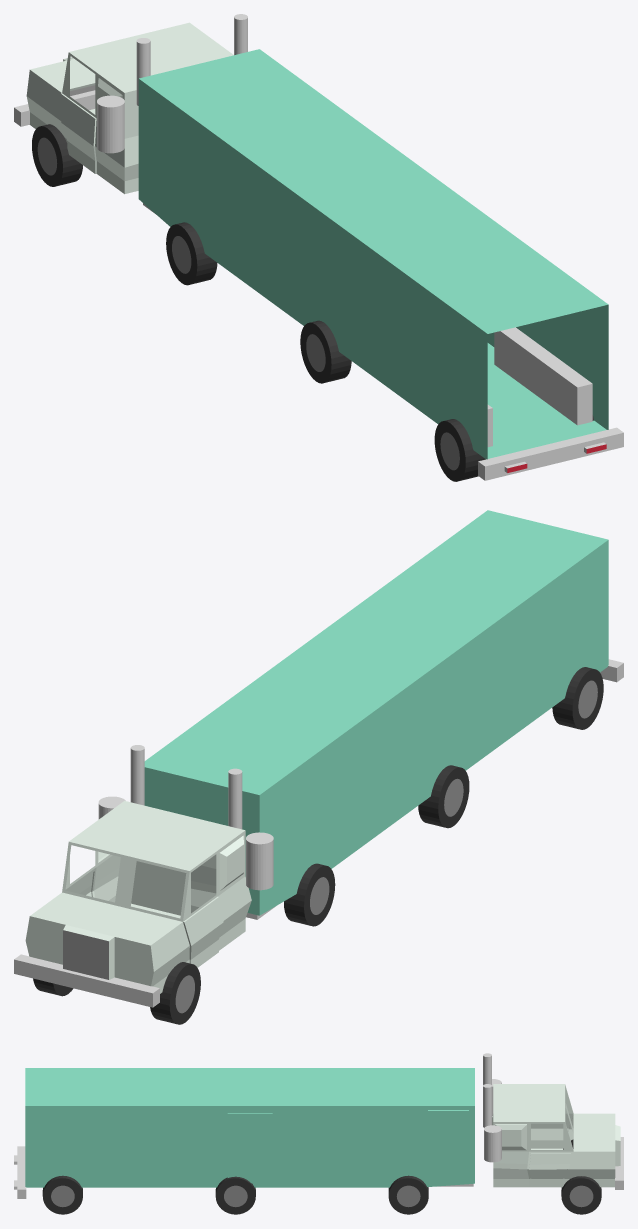
File: hauler.glb
The picture shows the model from 3 angles, top to bottom: view 1: azimuth 30°, elevation 25°; view 2: azimuth 150°, elevation 25°; view 3: azimuth 270°, elevation 25°; orthographic projection. The views are drawn at different scales.
Parts seen in each view (by area): view 1: Cube, Cube.001, Cylinder.002, Cube.004, Cube.011, Cylinder.013, Cylinder.001, Cube.010; view 2: Cube, Cube.001, Cylinder.002, Cube.010, Cylinder.013, Cylinder.001, Cylinder; view 3: Cube, Cube.001, Cylinder.002, Cylinder.012, Cube.011, Cylinder, Cube.010, Cylinder.001.
Part boxes in pixels (x1=…): Cube: x1=138, y1=49, x2=608, y2=459; Cube.001: x1=26, y1=22, x2=233, y2=194; Cylinder.002: x1=32, y1=124, x2=593, y2=481; Cube.004: x1=494, y1=327, x2=592, y2=425; Cube.011: x1=478, y1=427, x2=623, y2=480; Cylinder.013: x1=97, y1=95, x2=124, y2=153; Cylinder.001: x1=136, y1=38, x2=150, y2=105; Cube.010: x1=14, y1=90, x2=95, y2=126; Cube: x1=144, y1=510, x2=608, y2=915; Cube.001: x1=25, y1=801, x2=251, y2=993; Cylinder.002: x1=33, y1=667, x2=603, y2=1024; Cube.010: x1=14, y1=954, x2=159, y2=1007; Cylinder.013: x1=246, y1=832, x2=273, y2=890; Cylinder.001: x1=228, y1=768, x2=242, y2=829; Cylinder: x1=130, y1=745, x2=144, y2=805; Cube: x1=25, y1=1068, x2=474, y2=1187; Cube.001: x1=492, y1=1084, x2=620, y2=1187; Cylinder.002: x1=42, y1=1139, x2=601, y2=1214; Cylinder.012: x1=484, y1=1125, x2=501, y2=1162; Cube.011: x1=14, y1=1146, x2=26, y2=1198; Cylinder: x1=483, y1=1084, x2=491, y2=1127; Cube.010: x1=615, y1=1137, x2=623, y2=1189; Cylinder.001: x1=483, y1=1053, x2=491, y2=1084.
Bounding box in the file's own units: 2.84 × 3.03 × 13.57.
